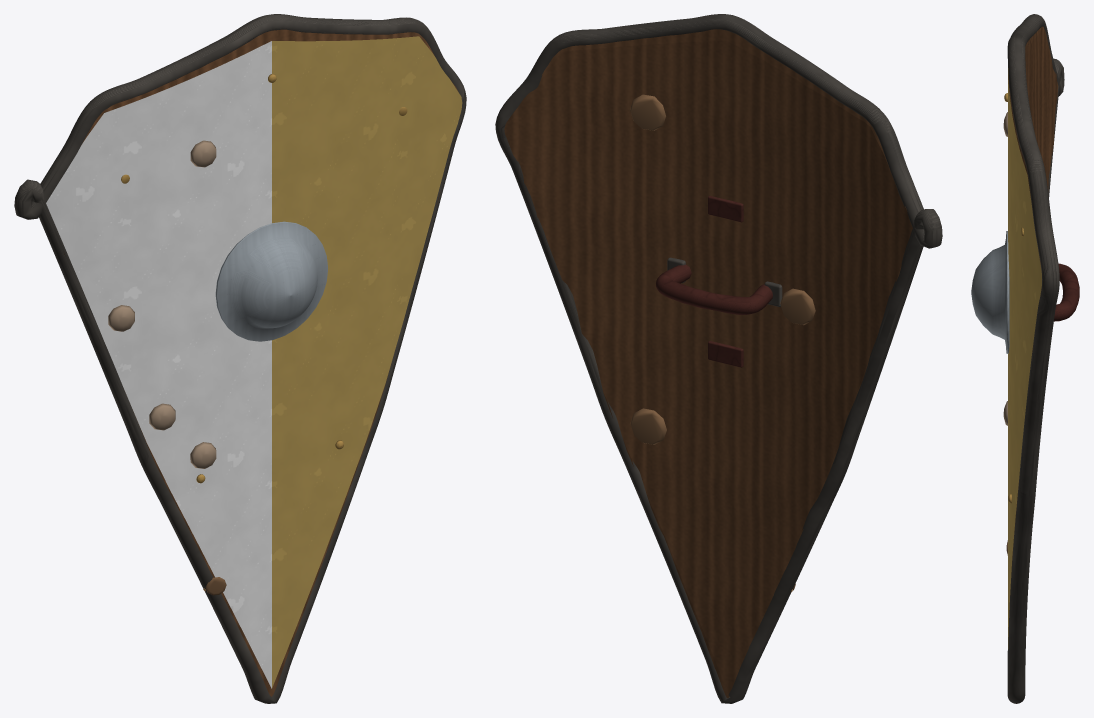
File: kite-shield.glb
3 renders of one model, left to right at view 1: azimuth 30°, elevation 25°; view 2: azimuth 150°, elevation 25°; view 3: azimuth 270°, elevation 25°, orthographic. The views are drawn at different scales.
Visible parts, largest first — view 1: ceramic / ceramic composite panel, enamel / heraldic enamel, iron / hammer-scaled wrought iron, steel / forged blade steel, wood / oiled hardwood, glaze bead; view 2: wood / oiled hardwood, iron / hammer-scaled wrought iron, leather / oiled leather wrap, drawbore peg; view 3: iron / hammer-scaled wrought iron, enamel / heraldic enamel, wood / oiled hardwood, steel / forged blade steel, leather / oiled leather wrap.
Boxes of the visible parts, left/top/right/bottom form: ceramic / ceramic composite panel: left=46, top=41, right=271, bottom=688; enamel / heraldic enamel: left=272, top=36, right=462, bottom=687; iron / hammer-scaled wrought iron: left=14, top=14, right=466, bottom=703; steel / forged blade steel: left=215, top=221, right=327, bottom=341; wood / oiled hardwood: left=64, top=29, right=457, bottom=696; glaze bead: left=108, top=140, right=216, bottom=468; wood / oiled hardwood: left=504, top=29, right=912, bottom=698; iron / hammer-scaled wrought iron: left=495, top=14, right=942, bottom=703; leather / oiled leather wrap: left=656, top=196, right=772, bottom=367; drawbore peg: left=630, top=94, right=815, bottom=590; iron / hammer-scaled wrought iron: left=1007, top=14, right=1064, bottom=703; enamel / heraldic enamel: left=1008, top=68, right=1041, bottom=648; wood / oiled hardwood: left=1008, top=26, right=1058, bottom=602; steel / forged blade steel: left=971, top=231, right=1009, bottom=353; leather / oiled leather wrap: left=1054, top=263, right=1079, bottom=321.
Size of the model in its own units: 0.6445 by 0.948 by 0.1416.
Materials: 10 (7 with a texture image).
